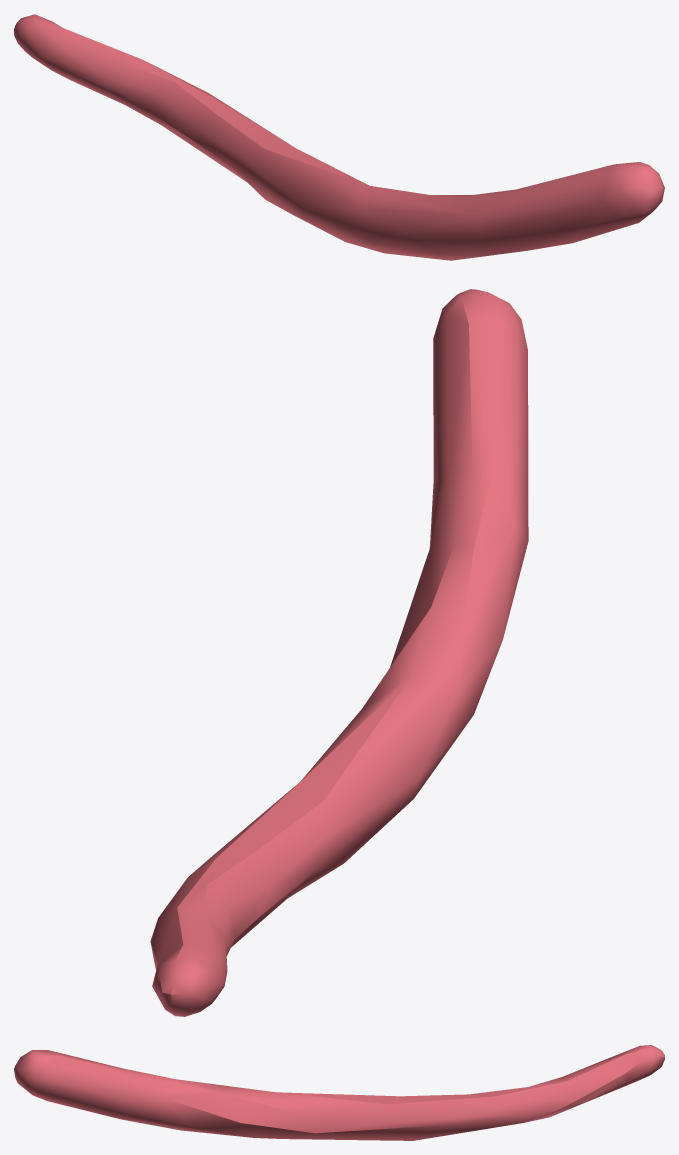
The model's file is fma8663_fj6091.glb.
3 renders of one model, top to bottom at view 1: azimuth 30°, elevation 25°; view 2: azimuth 150°, elevation 25°; view 3: azimuth 270°, elevation 25°, orthographic. The views are drawn at different scales.
Parts seen in each view (by area): view 1: FMA8663_FJ6091; view 2: FMA8663_FJ6091; view 3: FMA8663_FJ6091.
Boxes of the visible parts, bbox=[...] form: FMA8663_FJ6091: bbox=[14, 14, 664, 260]; FMA8663_FJ6091: bbox=[150, 289, 528, 1016]; FMA8663_FJ6091: bbox=[14, 1045, 664, 1140].
Bounding box in the file's own units: 0.0164 × 0.0111 × 0.0487.
